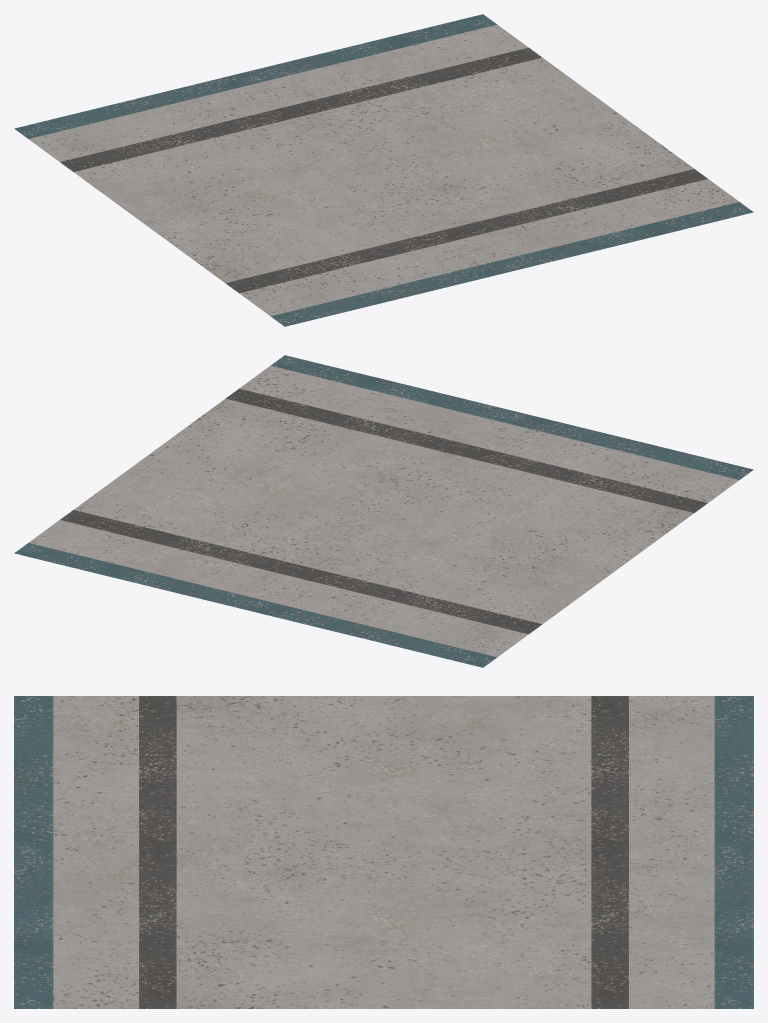
The model's file is HH_Flooring_Concrete_4x4m_03.fbx.
The picture shows the model from 3 angles, top to bottom: view 1: azimuth 30°, elevation 25°; view 2: azimuth 150°, elevation 25°; view 3: azimuth 270°, elevation 25°; orthographic projection. The views are drawn at different scales.
Parts seen in each view (by area): view 1: HH_Flooring_Concrete_4x4m_03; view 2: HH_Flooring_Concrete_4x4m_03; view 3: HH_Flooring_Concrete_4x4m_03.
Boxes of the visible parts, box(x1,y1,x2,y2) form: HH_Flooring_Concrete_4x4m_03: box(14, 14, 753, 326); HH_Flooring_Concrete_4x4m_03: box(14, 355, 753, 667); HH_Flooring_Concrete_4x4m_03: box(14, 696, 753, 1008).
Size of the model in its own units: 400 by 0 by 400.
